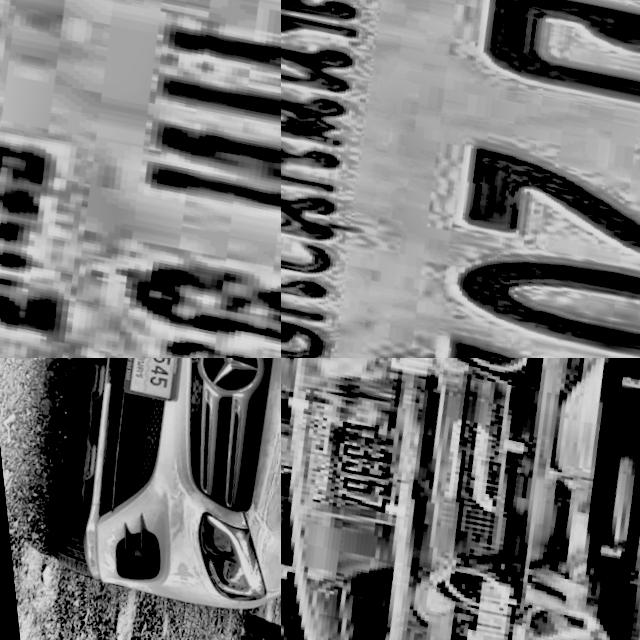license-plate: (281, 0, 640, 358), (0, 0, 281, 358), (281, 365, 438, 548), (107, 358, 193, 405)
